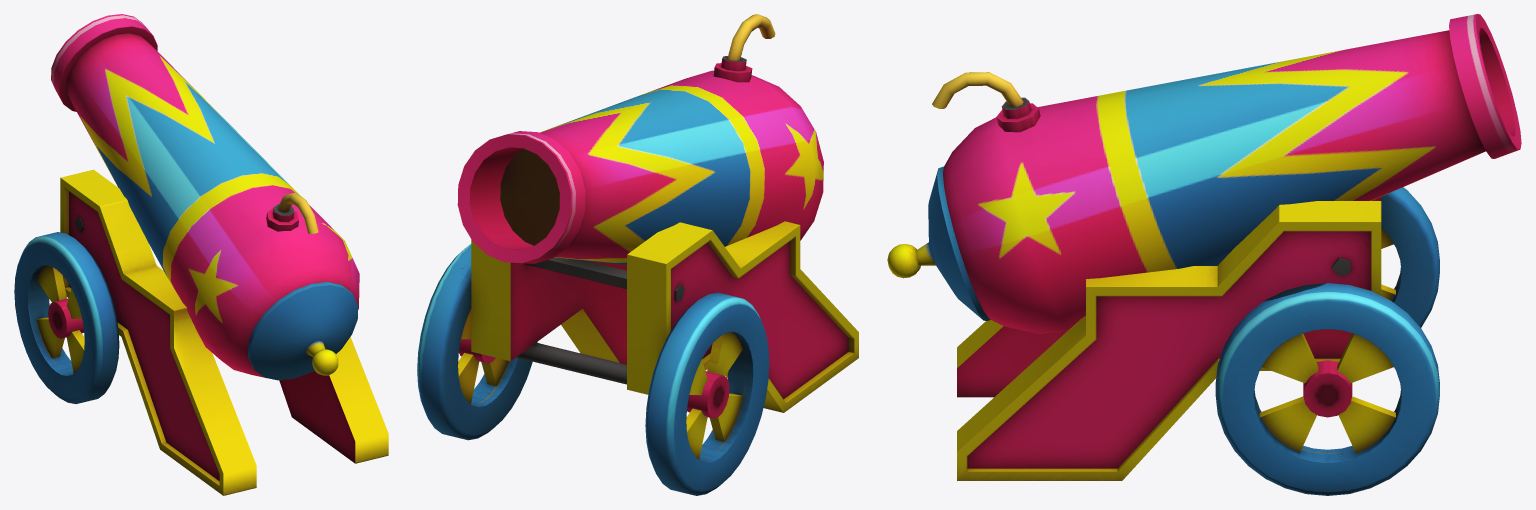
The model's file is canonCombined.fbx.
3 views of the same model, side by side, from view 1: azimuth 30°, elevation 25°; view 2: azimuth 150°, elevation 25°; view 3: azimuth 270°, elevation 25° (orthographic). The views are drawn at different scales.
Parts seen in each view (by area): view 1: canon; view 2: canon; view 3: canon.
Boxes of the visible parts, <box> form: canon: <box>14,14,388,495</box>; canon: <box>417,14,858,495</box>; canon: <box>887,14,1521,495</box>.
Bounding box in the file's own units: 0.192 × 0.2659 × 0.3725.
